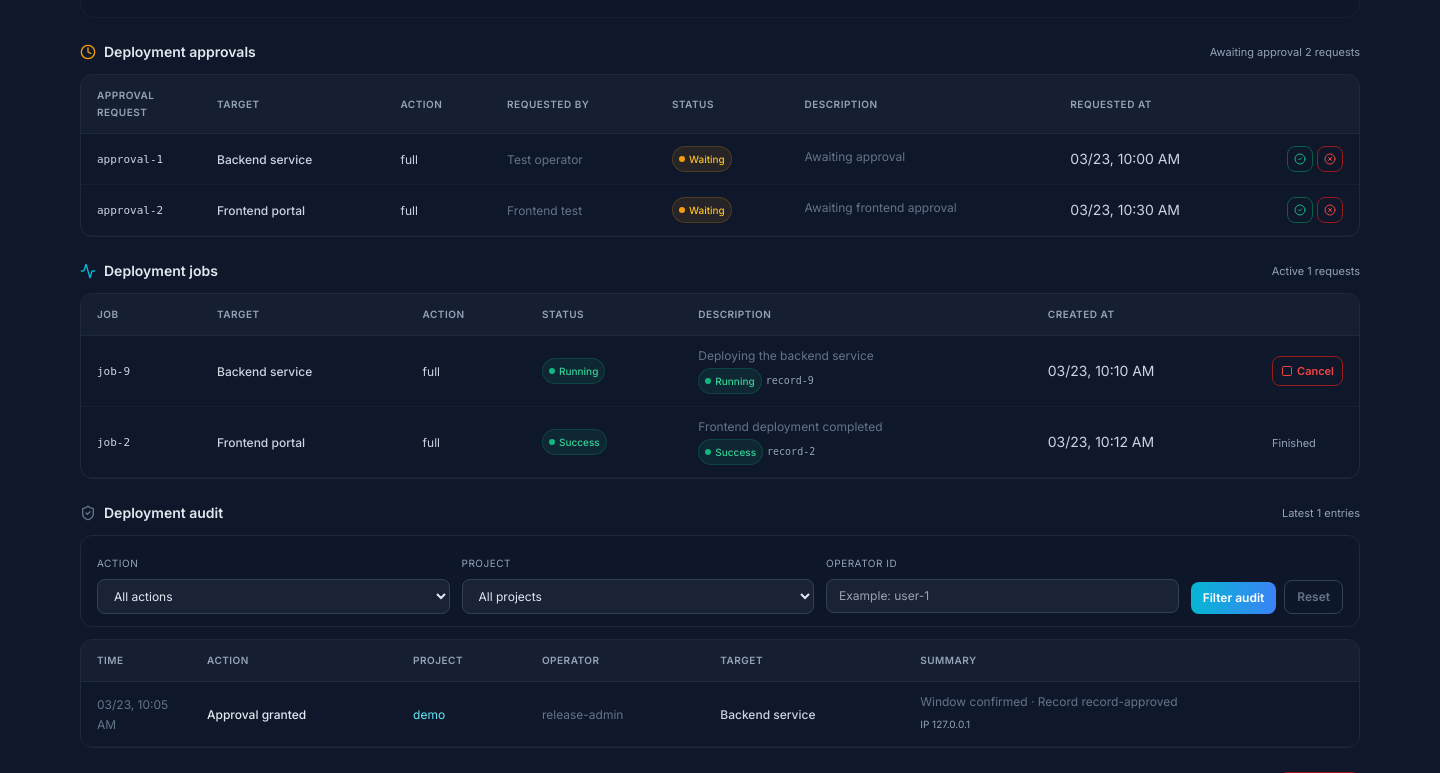
Test case: DeployPage › supports canceling a running deployment from the job list
The image size is (1440, 773).
(page scrolled)
Expected: the heading "Deployment jobs" is shown, [80,261,218,281]
Click the button titled "Cancel job". click: (1308, 371)
box: [1272,356,1343,386]
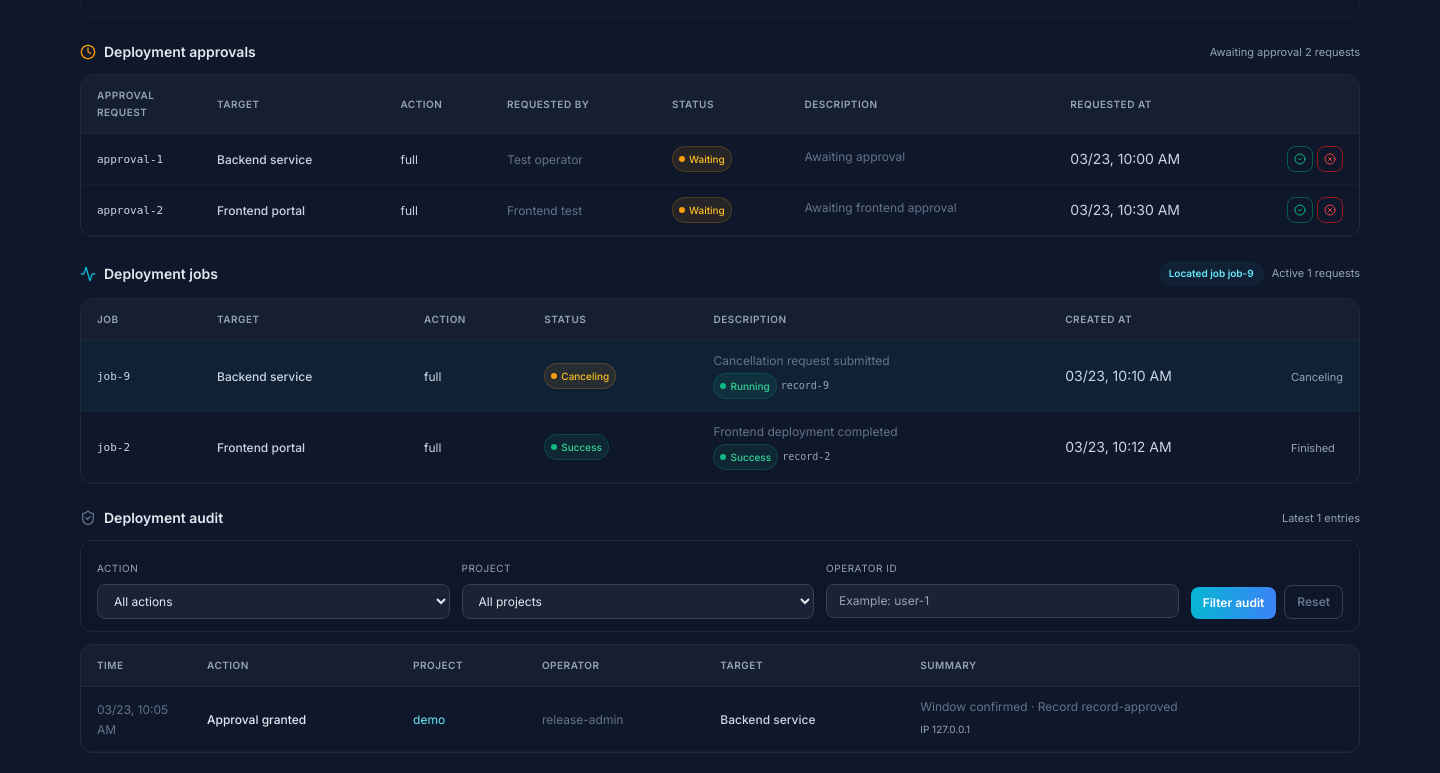
Result: the text "Canceling" is shown at [544,363,616,389]
